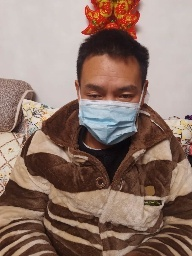correctlyWear: (74, 69, 148, 146)
